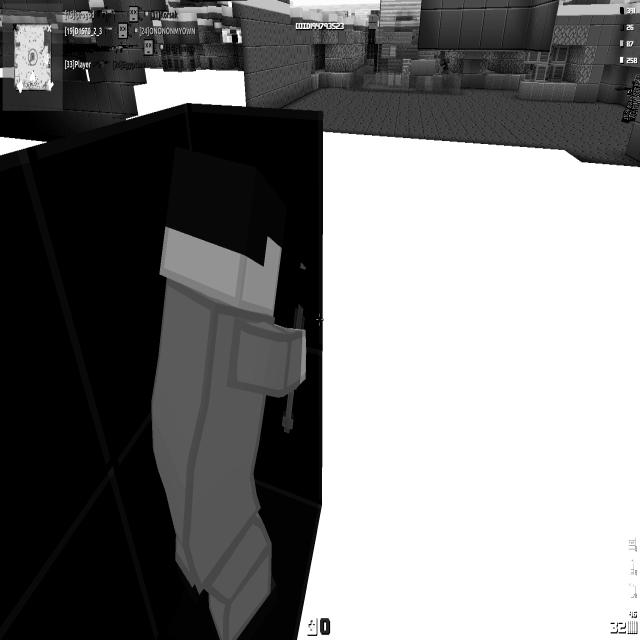Head: (158, 146, 287, 318)
Player: (150, 145, 307, 638)
